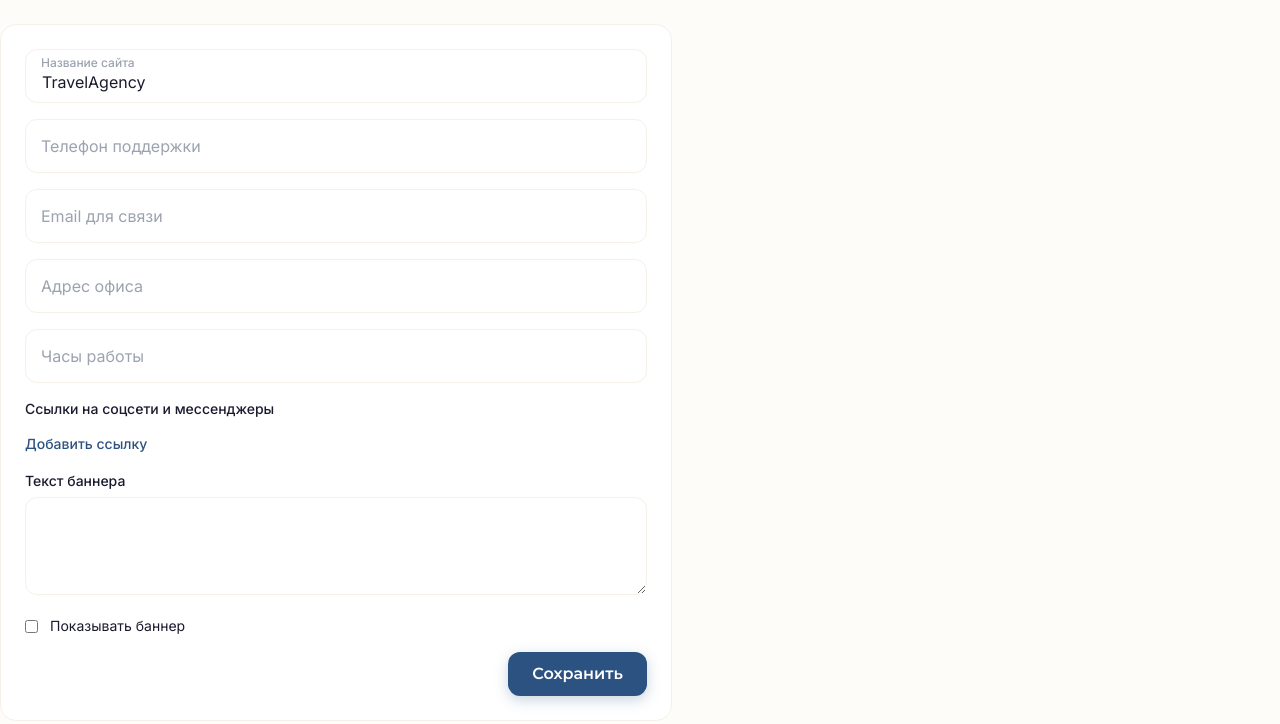
Test case: AdminSiteSettingsPage › saves a phone and shows the cache notice
Expected: the button "Сохранить" is enabled, x1=508 y1=652 x2=647 y2=696
Type "+79991234567" into the field labelled "Телефон поддержки".
click(336, 146); type("+79991234567")  # box x1=25 y1=119 x2=647 y2=173
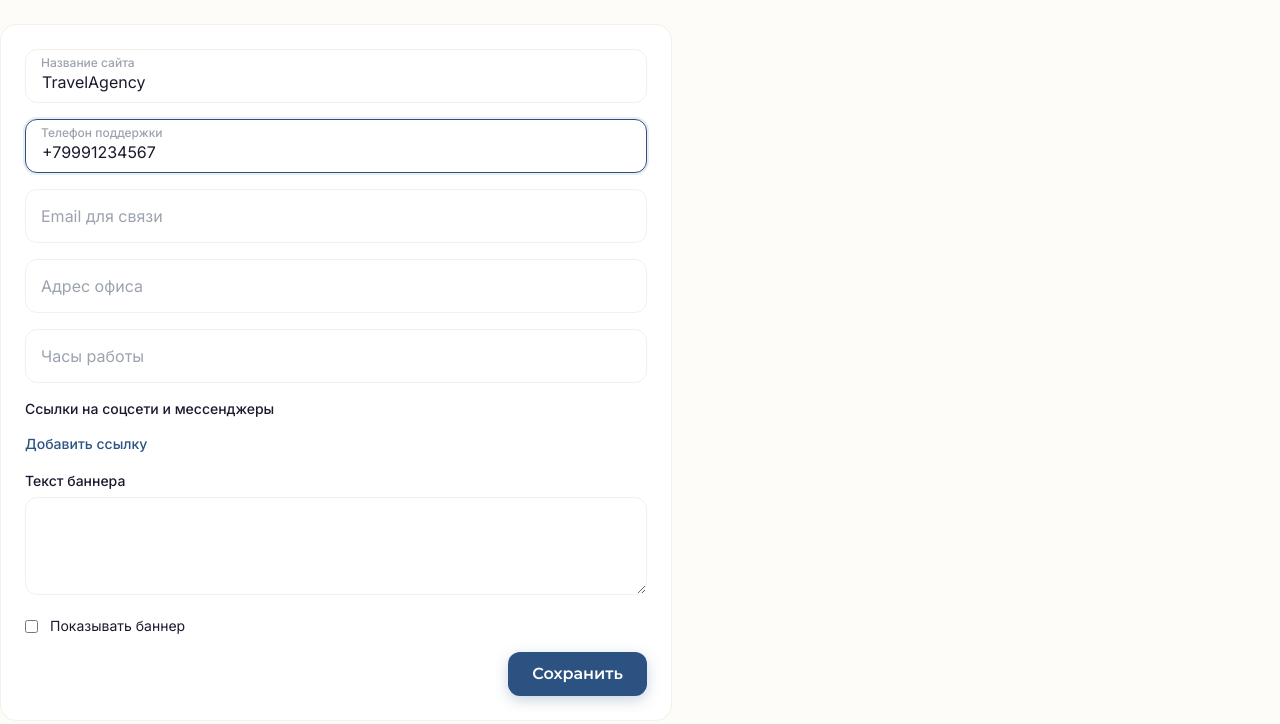
Click the button "Сохранить".
click(578, 674)  # box x1=508 y1=652 x2=647 y2=696
(page scrolled)
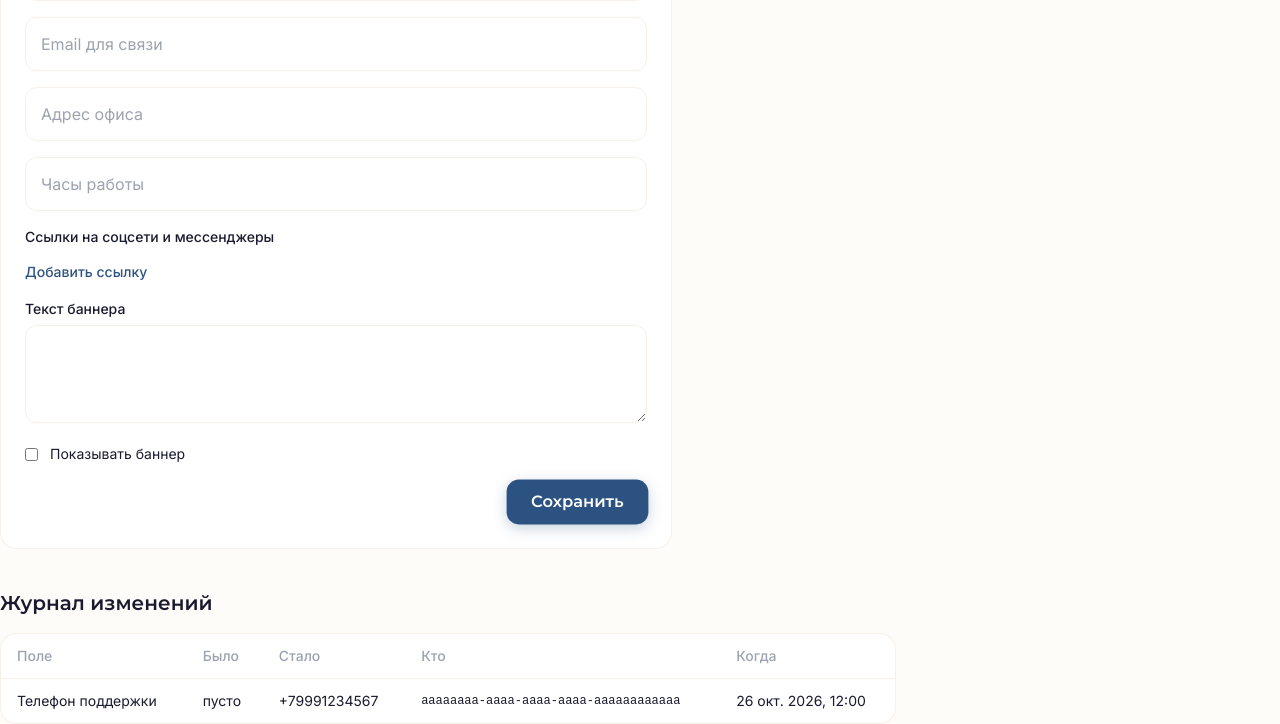
Expected: the text "Телефон поддержки" is shown, x1=1 y1=678 x2=187 y2=723
Expected: the text "+79991234567" is shown, x1=263 y1=678 x2=405 y2=723
Expected: the text "aaaaaaaa-aaaa-aaaa-aaaa-aaaaaaaaaaaa" is shown, x1=405 y1=678 x2=720 y2=723
